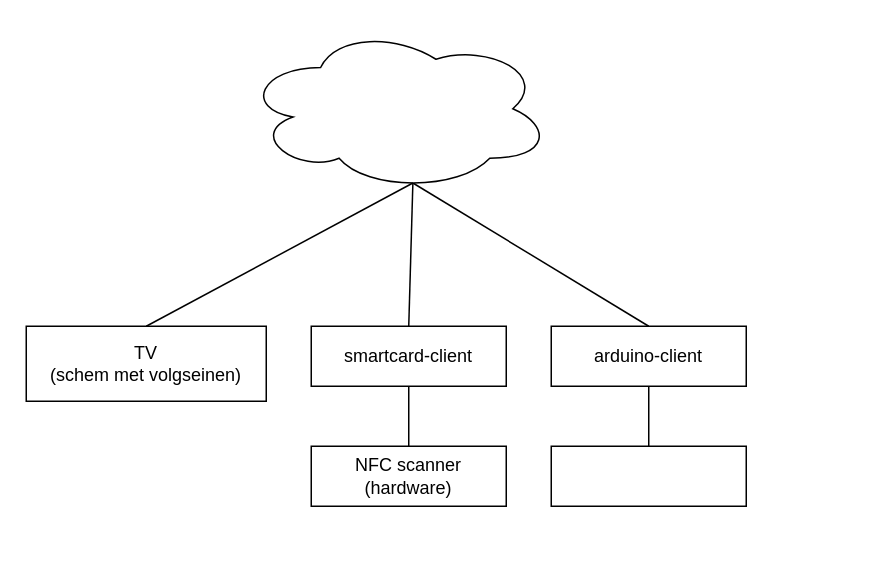
The diagram is 875 pixels wide and 575 high, and some of its shapes have lost their labels. Each missing label, with the box of its shape:
arduino (ledstrip controller): (550, 445, 746, 506)
client & server host rgb.ikdoeict.be: (242, 25, 551, 191)
